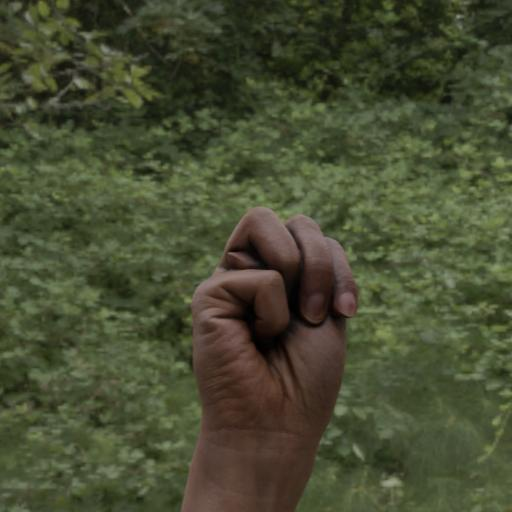M: (166, 177, 435, 482)
